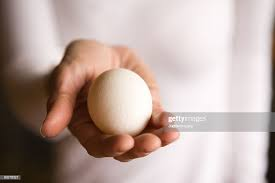egg: (86, 69, 152, 136)
